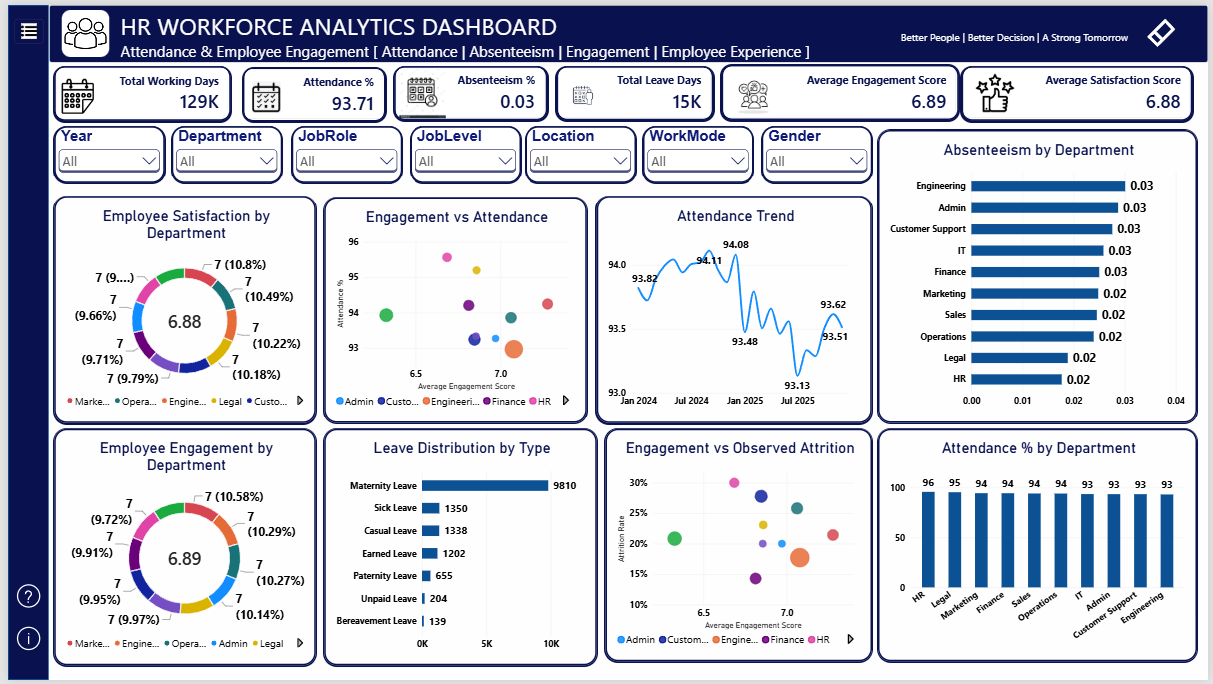

Layout of this report page (visuals, bound fields, positions):
{"tool":"powerbi","page":{"name":"Attendance & Engagement","canvas":[1920,1080],"ordinal":6},"visuals":[{"type":"shape","title":"side corner layout","box":[0,0,65,1080],"z":0,"group":"g11"},{"type":"actionButton","title":"top nav bar","box":[66,0,1854,92],"z":0,"group":"g9"},{"type":"actionButton","title":"layout","box":[374,2,1546,1078],"z":0,"group":"g10"},{"type":"cardVisual","fields":{"Data":["Measures (2).Average Engagement Score"]},"box":[1141.9,96,378.9,88],"z":0,"group":"g5"},{"type":"cardVisual","fields":{"Data":["Measures (2).Total Working Days"]},"box":[74,98,282.3,87],"z":0,"group":"g6"},{"type":"cardVisual","fields":{"Data":["Measures (2).Absenteeism %"]},"box":[618.6,98,244.7,86],"z":0,"group":"g7"},{"type":"cardVisual","fields":{"Data":["Measures (2).Total Leave Days"]},"box":[877.4,98,250.6,86],"z":0,"group":"g3"},{"type":"cardVisual","fields":{"Data":["Measures (2).Attendance %"]},"box":[376.3,99,228.2,86],"z":0,"group":"g8"},{"type":"group","id":"g1","title":"slicers","box":[74,194,1308,90],"z":0},{"type":"slicer","fields":{"Values":["DimDate.Year"]},"box":[74,194,176.6,90],"z":0,"group":"g1"},{"type":"actionButton","title":"emp profile","box":[33.4,847.4,330,70],"z":0,"group":"g4"},{"type":"cardVisual","fields":{"Data":["Measures (2).Average Satisfaction Score"]},"box":[1526.9,97,369.1,87],"z":125,"group":"g5"},{"type":"image","box":[1542.7,110.3,74.3,61.4],"z":250,"group":"g5"},{"type":"shape","title":"PAGE NAVIGATION","box":[66,0,316,1080],"z":1000,"group":"g10"},{"type":"image","title":"people icon","box":[85,7.5,76,75],"z":1000,"group":"g9"},{"type":"group","id":"g2","title":"card","box":[74,96,1822,89],"z":1000},{"type":"image","box":[627.3,102,74,80],"z":1000,"group":"g7"},{"type":"image","box":[886.8,111,61.2,64],"z":1000,"group":"g3"},{"type":"image","box":[74,118,74.9,56],"z":1000,"group":"g6"},{"type":"image","box":[385.2,121,58.5,50],"z":1000,"group":"g8"},{"type":"slicer","fields":{"Values":["DimEmployee.JobLevel"]},"box":[644.4,194,176.6,90],"z":1000,"group":"g1"},{"type":"actionButton","title":"emp details","box":[39.8,758.5,330,70],"z":1000,"group":"g4"},{"type":"actionButton","title":"info","box":[7.5,985,50,50],"z":1000,"group":"g11"},{"type":"image","box":[1152.9,103.2,80.4,74.7],"z":1250,"group":"g5"},{"type":"actionButton","title":"clear slicer","box":[1794,12,102,66],"z":1500,"group":"g9"},{"type":"actionButton","title":"arrow close","box":[334,2,50,40],"z":2000,"group":"g10"},{"type":"textbox","box":[180,7.5,1220,85],"z":2000,"group":"g9"},{"type":"group","id":"g3","title":"Group 1","box":[877.4,98,250.6,86],"z":2000,"group":"g2"},{"type":"slicer","fields":{"Values":["DimEmployee.JobRole"]},"box":[453.6,194,176.6,90],"z":2000,"group":"g1"},{"type":"actionButton","title":"HR Cost","box":[34,668,330,70],"z":2000,"group":"g4"},{"type":"actionButton","title":"help","box":[7.5,917.5,50,50],"z":2000,"group":"g11"},{"type":"textbox","box":[1306,22,486,62],"z":2500,"group":"g9"},{"type":"actionButton","title":"menu Button","box":[10,22.5,47.5,40],"z":3000,"group":"g11"},{"type":"group","id":"g4","title":"pages","box":[28,64,343,853.4],"z":3000,"group":"g10"},{"type":"slicer","fields":{"Values":["DimDepartment.Department"]},"box":[262.9,194,176.6,90],"z":3000,"group":"g1"},{"type":"actionButton","title":"Attendance & Engagement","box":[36,578,335,70],"z":3000,"group":"g4"},{"type":"group","id":"g5","title":"Group 3","box":[1141.9,96,754.1,88],"z":3001,"group":"g2"},{"type":"group","id":"g6","title":"Group 1","box":[74,98,282.3,87],"z":4000,"group":"g2"},{"type":"slicer","fields":{"Values":["DimEmployee.Gender"]},"box":[1205.9,194,176.6,90],"z":4000,"group":"g1"},{"type":"actionButton","title":"Performance & Training","box":[32,490,330,70],"z":4000,"group":"g4"},{"type":"group","id":"g7","title":"Group 1","box":[618.6,98,244.7,86],"z":5000,"group":"g2"},{"type":"slicer","fields":{"Values":["DimEmployee.WorkMode"]},"box":[1016.9,194,176.6,90],"z":5000,"group":"g1"},{"type":"donutChart","title":"Employee Satisfaction by Department","fields":{"Category":["DimEmployee.Department"],"Y":["Measures (2).Average Satisfaction"]},"box":[74,306,418,362],"z":5000},{"type":"actionButton","title":"Compensation","box":[34,404,330,70],"z":5000,"group":"g4"},{"type":"slicer","fields":{"Values":["DimEmployee.Location"]},"box":[828,194,176.6,90],"z":6000,"group":"g1"},{"type":"actionButton","title":"Attrition","box":[38,318,328,70],"z":6000,"group":"g4"},{"type":"donutChart","title":"Employee Engagement by Department","fields":{"Category":["DimEmployee.Department"],"Y":["Measures (2).Average Engagement Score"]},"box":[74,678,418,378],"z":6000},{"type":"group","id":"g8","title":"Group 1","box":[376.3,99,228.2,86],"z":7000,"group":"g2"},{"type":"actionButton","title":"Recruitment","box":[38,236,330,70],"z":7000,"group":"g4"},{"type":"lineChart","title":"Attendance Trend","fields":{"Category":["FactAttendance.Month"],"Y":["Measures (2).Attendance %"]},"box":[942,306,440,362],"z":7000},{"type":"actionButton","title":"Workforce","box":[38,144,326,70],"z":8000,"group":"g4"},{"type":"barChart","title":"Leave Distribution by Type","fields":{"Category":["FactLeave.LeaveType"],"Y":["Measures (2).Total Leave Days"]},"box":[506,678,436,378],"z":8000},{"type":"actionButton","title":"executive overview","box":[28,64,335,70],"z":9000,"group":"g4"},{"type":"clusteredBarChart","title":"Absenteeism by Department","fields":{"Category":["DimEmployee.Department"],"Y":["Measures (2).Absenteeism %"]},"box":[1392,200,510,468],"z":9000},{"type":"clusteredColumnChart","title":"Attendance % by Department","fields":{"Category":["DimEmployee.Department"],"Y":["Measures (2).Attendance %"]},"box":[1392,678,510,372],"z":10000},{"type":"scatterChart","title":"Engagement vs Attendance","fields":{"Series":["DimEmployee.Department"],"Size":["Measures (2).Total Employees"],"X":["Measures (2).Average Engagement Score"],"Y":["Measures (2).Attendance %"]},"box":[506,308,420,360],"z":11000},{"type":"scatterChart","title":"Engagement vs Observed Attrition","fields":{"Series":["DimEmployee.Department"],"Size":["Measures (2).Total Employees"],"X":["Measures (2).Average Engagement Score"],"Y":["Measures (2).Attrition Rate"]},"box":[956,678,426,372],"z":12000},{"type":"group","id":"g9","title":"top nav bar","box":[66,0,1854,92.5],"z":12125},{"type":"group","id":"g10","title":"menu object","box":[28,0,1892,1080],"z":12250},{"type":"group","id":"g11","title":"menu bar","box":[0,0,65,1080],"z":12500}]}

Visuals, with their boxes in screenshot pixels (x1, y1, x2, y2), scaled from the page's 1920x1080 canvas onto the 1213x684 screenshot:
"side corner layout" shape: select_region(0, 0, 41, 683)
"top nav bar" actionButton: select_region(42, 0, 1212, 58)
"layout" actionButton: select_region(236, 1, 1212, 683)
cardVisual - Measures (2).Average Engagement Score: select_region(721, 61, 961, 117)
cardVisual - Measures (2).Total Working Days: select_region(47, 62, 225, 117)
cardVisual - Measures (2).Absenteeism %: select_region(391, 62, 545, 117)
cardVisual - Measures (2).Total Leave Days: select_region(554, 62, 713, 117)
cardVisual - Measures (2).Attendance %: select_region(238, 63, 382, 117)
"slicers" group: select_region(47, 123, 873, 180)
slicer - DimDate.Year: select_region(47, 123, 158, 180)
"emp profile" actionButton: select_region(21, 537, 230, 581)
cardVisual - Measures (2).Average Satisfaction Score: select_region(965, 61, 1198, 117)
image: select_region(975, 70, 1022, 109)
"PAGE NAVIGATION" shape: select_region(42, 0, 241, 683)
"people icon" image: select_region(54, 5, 102, 52)
"card" group: select_region(47, 61, 1198, 117)
image: select_region(396, 65, 443, 115)
image: select_region(560, 70, 599, 111)
image: select_region(47, 75, 94, 110)
image: select_region(243, 77, 280, 108)
slicer - DimEmployee.JobLevel: select_region(407, 123, 519, 180)
"emp details" actionButton: select_region(25, 480, 234, 525)
"info" actionButton: select_region(5, 624, 36, 656)
image: select_region(728, 65, 779, 113)
"clear slicer" actionButton: select_region(1133, 8, 1198, 49)
"arrow close" actionButton: select_region(211, 1, 243, 27)
textbox: select_region(114, 5, 884, 59)
"Group 1" group: select_region(554, 62, 713, 117)
slicer - DimEmployee.JobRole: select_region(287, 123, 398, 180)
"HR Cost" actionButton: select_region(21, 423, 230, 467)
"help" actionButton: select_region(5, 581, 36, 613)
textbox: select_region(825, 14, 1132, 53)
"menu Button" actionButton: select_region(6, 14, 36, 40)
"pages" group: select_region(18, 41, 234, 581)
slicer - DimDepartment.Department: select_region(166, 123, 278, 180)
"Attendance & Engagement" actionButton: select_region(23, 366, 234, 410)
"Group 3" group: select_region(721, 61, 1198, 117)
"Group 1" group: select_region(47, 62, 225, 117)
slicer - DimEmployee.Gender: select_region(762, 123, 873, 180)
"Performance & Training" actionButton: select_region(20, 310, 229, 355)
"Group 1" group: select_region(391, 62, 545, 117)
slicer - DimEmployee.WorkMode: select_region(642, 123, 754, 180)
"Employee Satisfaction by Department" donutChart: select_region(47, 194, 311, 423)
"Compensation" actionButton: select_region(21, 256, 230, 300)
slicer - DimEmployee.Location: select_region(523, 123, 635, 180)
"Attrition" actionButton: select_region(24, 201, 231, 246)
"Employee Engagement by Department" donutChart: select_region(47, 429, 311, 669)
"Group 1" group: select_region(238, 63, 382, 117)
"Recruitment" actionButton: select_region(24, 149, 232, 194)
"Attendance Trend" lineChart: select_region(595, 194, 873, 423)
"Workforce" actionButton: select_region(24, 91, 230, 136)
"Leave Distribution by Type" barChart: select_region(320, 429, 595, 669)
"executive overview" actionButton: select_region(18, 41, 229, 85)
"Absenteeism by Department" clusteredBarChart: select_region(879, 127, 1202, 423)
"Attendance % by Department" clusteredColumnChart: select_region(879, 429, 1202, 665)
"Engagement vs Attendance" scatterChart: select_region(320, 195, 585, 423)
"Engagement vs Observed Attrition" scatterChart: select_region(604, 429, 873, 665)
"top nav bar" group: select_region(42, 0, 1212, 59)
"menu object" group: select_region(18, 0, 1212, 683)
"menu bar" group: select_region(0, 0, 41, 683)
